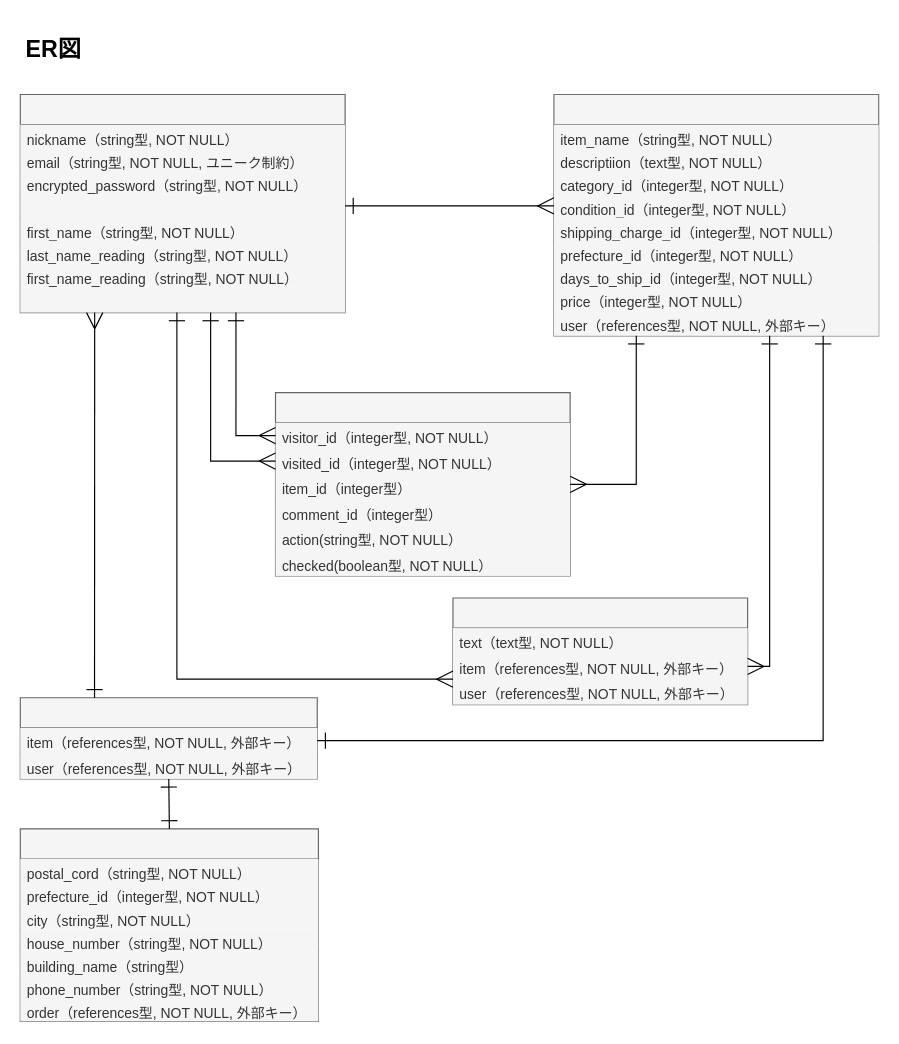
This 899x1044 diagram has some shape labels left out. The box of each missing label's shape, as (x1, y1, x2, y2) in pixels:
addressesテーブル: (19, 828, 318, 1021)
birthday（date型, NOT NULL）: (20, 287, 345, 312)
commentsテーブル: (452, 597, 748, 705)
itemsテーブル: (553, 93, 879, 336)
last_name（string型, NOT NULL）: (20, 194, 345, 217)
notificationsテーブル: (274, 392, 570, 576)
ordersテーブル: (19, 697, 317, 779)
usersテーブル: (19, 93, 345, 313)
